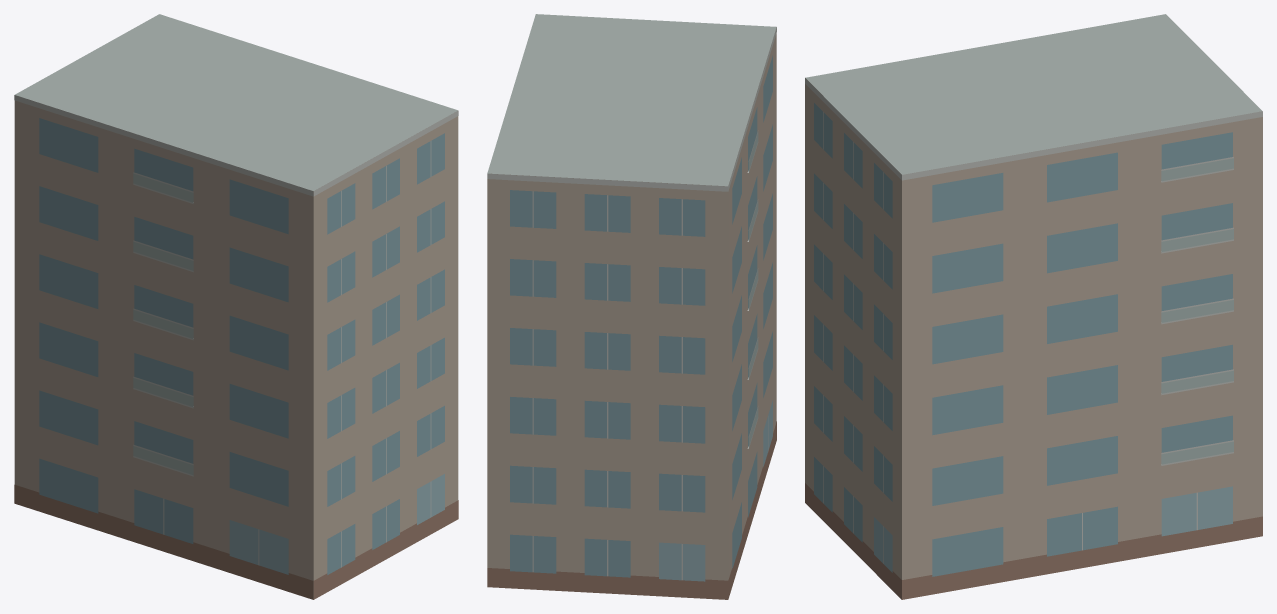
The model's file is survey-upis-32989969.glb.
The picture shows the model from 3 angles, left to right: view 1: azimuth 30°, elevation 25°; view 2: azimuth 150°, elevation 25°; view 3: azimuth 270°, elevation 25°; orthographic projection. The views are drawn at different scales.
Parts seen in each view (by area): view 1: survey-upis-32989969.tmp; view 2: survey-upis-32989969.tmp; view 3: survey-upis-32989969.tmp.
Part boxes in pixels (x1=…): survey-upis-32989969.tmp: x1=14, y1=14, x2=458, y2=599; survey-upis-32989969.tmp: x1=487, y1=14, x2=776, y2=599; survey-upis-32989969.tmp: x1=805, y1=14, x2=1262, y2=599.
Bounding box in the file's own units: 14.87 × 18.3 × 17.87.
